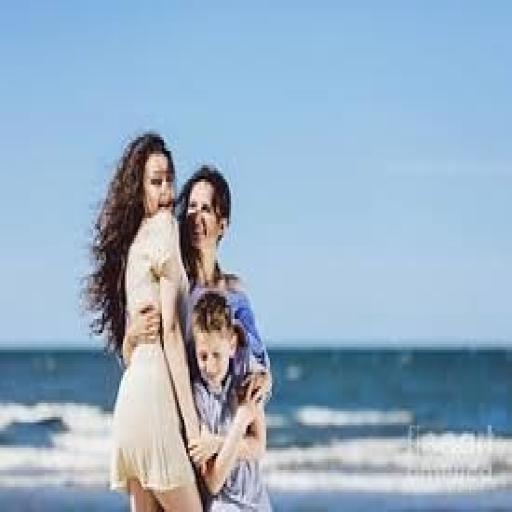hugging: (82, 129, 275, 509)
